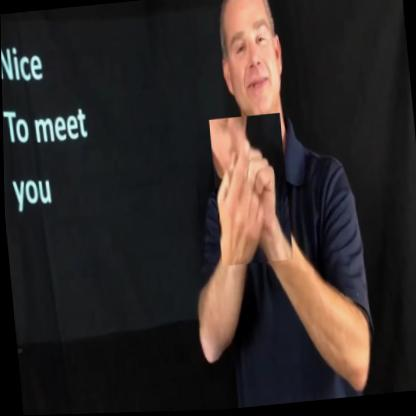NiceToMeetYou: (209, 114, 292, 268)
